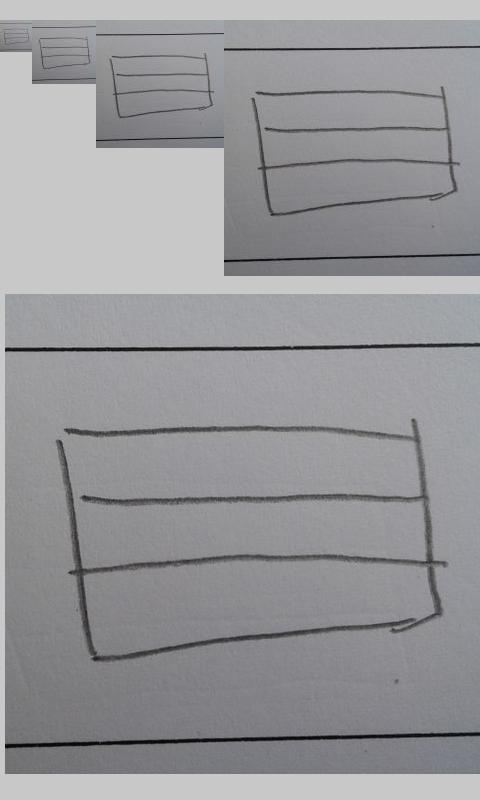list_view: (59, 422, 446, 666), (250, 88, 459, 216), (109, 53, 214, 119), (38, 36, 91, 70), (3, 28, 29, 45)
